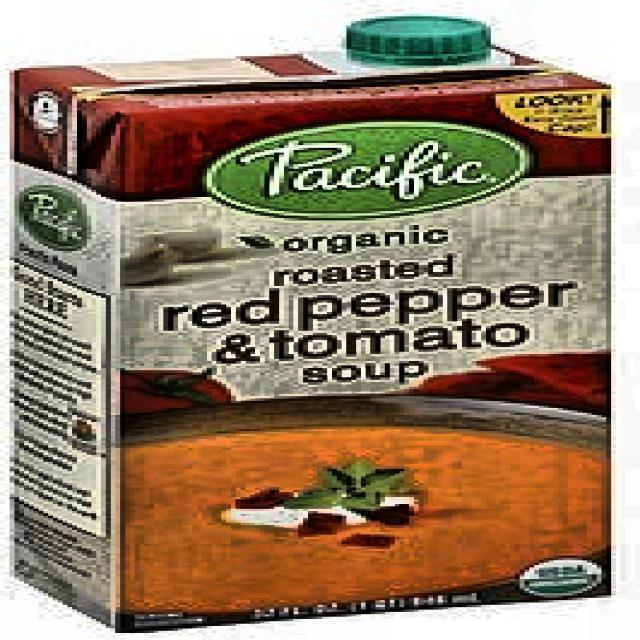cardboard: (4, 38, 612, 630)
